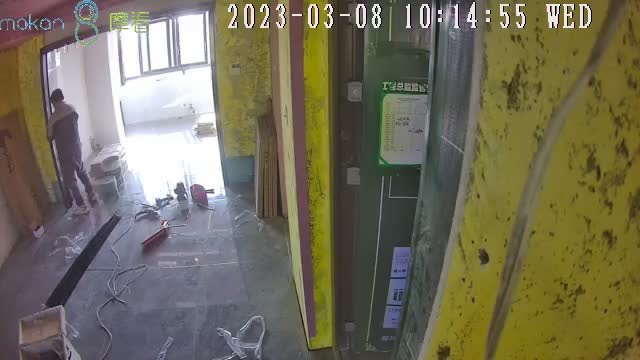people: (48, 89, 97, 215)
window: (117, 10, 210, 79)
